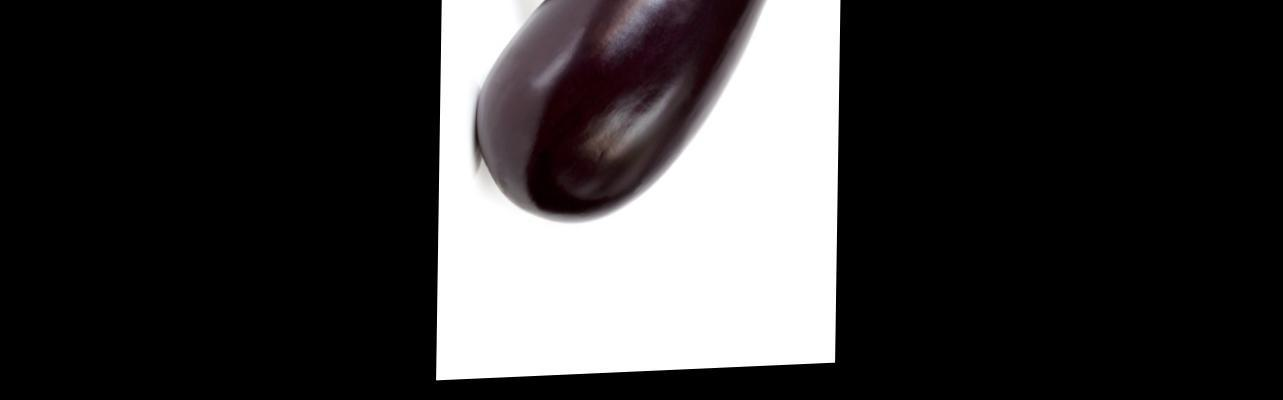eggplant: (467, 0, 817, 228)
